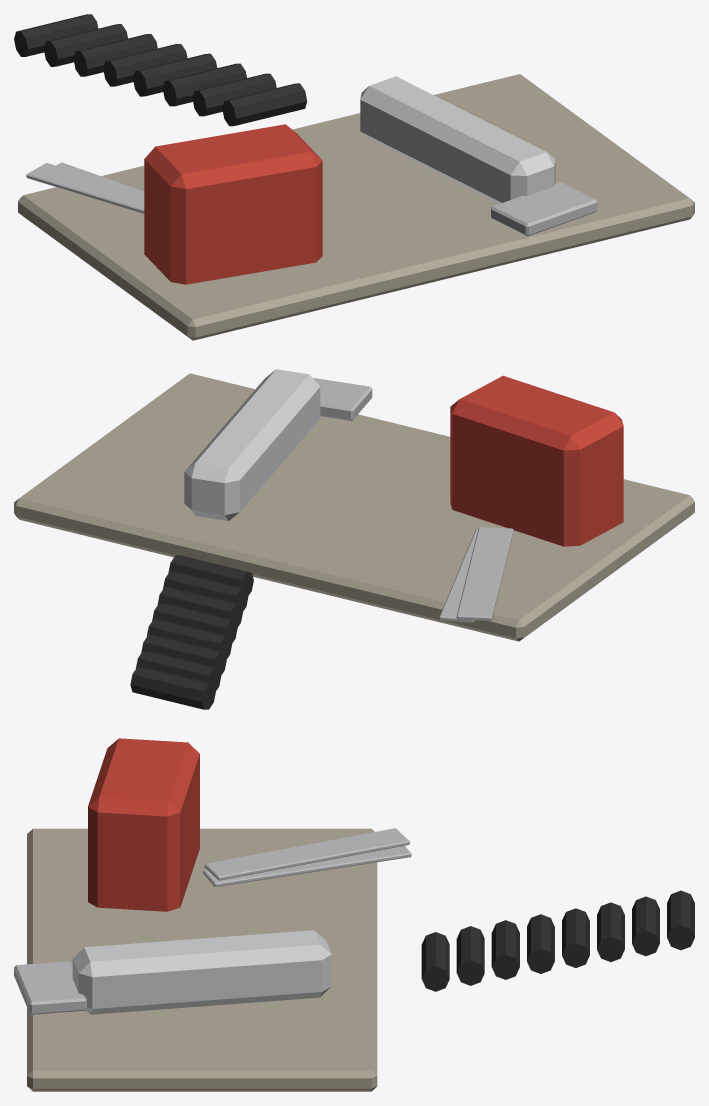
The model's file is sheep_shearing_kit_a.glb.
3 views of the same model, one above another, from view 1: azimuth 30°, elevation 25°; view 2: azimuth 150°, elevation 25°; view 3: azimuth 270°, elevation 25° (orthographic).
Visible parts, largest first — view 1: sheep_shearing_kit_a_LOD0; view 2: sheep_shearing_kit_a_LOD0; view 3: sheep_shearing_kit_a_LOD0.
Boxes of the visible parts, <box> form: sheep_shearing_kit_a_LOD0: <box>14,14,694,340</box>; sheep_shearing_kit_a_LOD0: <box>14,369,694,709</box>; sheep_shearing_kit_a_LOD0: <box>14,738,694,1091</box>.
Bounding box in the file's own units: 0.5 × 0.12 × 0.5832.
